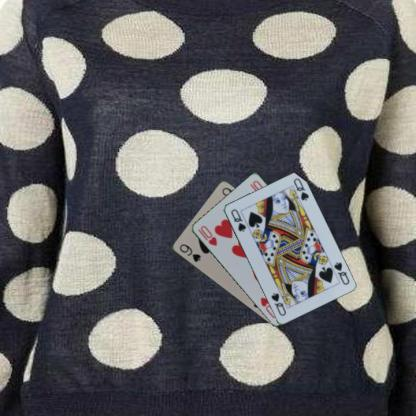10h: (195, 223, 218, 247)
9s: (176, 241, 202, 263)
Qs: (228, 206, 247, 233), (331, 259, 350, 286)
